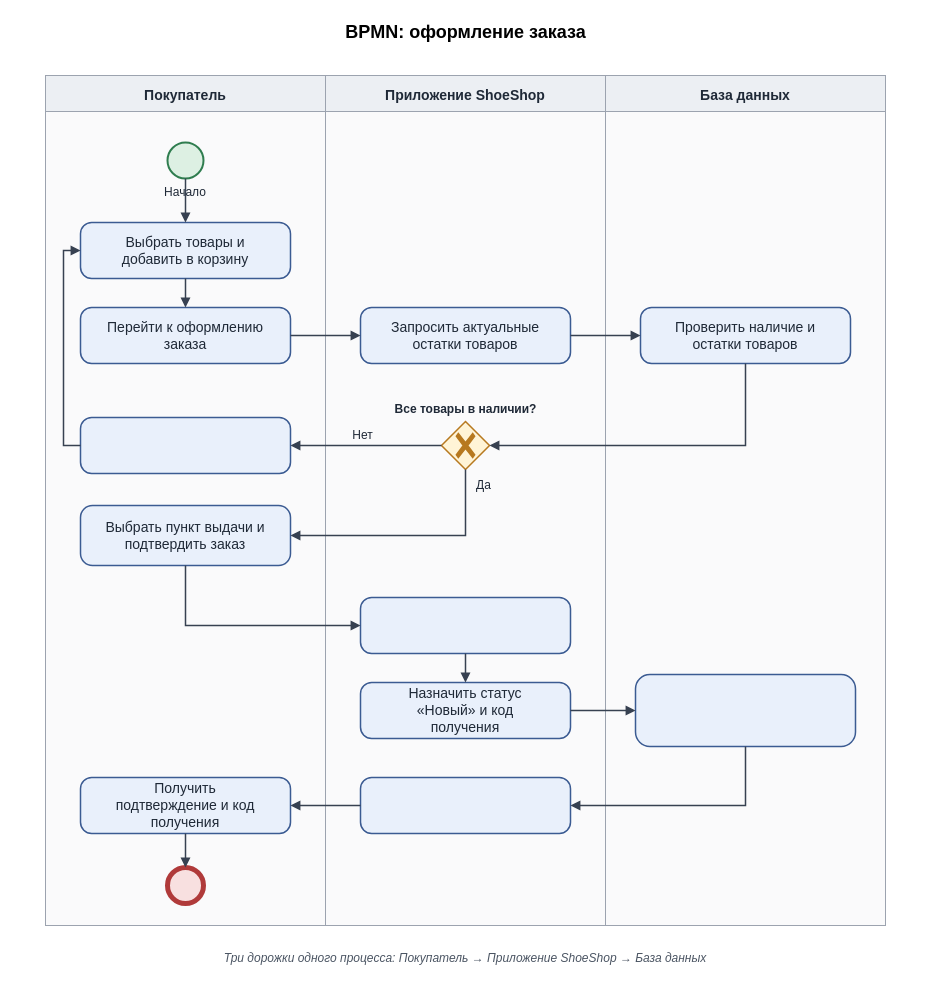
The diagram is 930 pixels wide and 985 high, and some of its shapes have lost their labels. Each missing label, with the centre of its shape:
"Изменить корзину" belongs at [185,445].
"Конец" belongs at [185,885].
"Показать подтверждение заказа" belongs at [465,805].
"Создать заказ и строки заказа" belongs at [465,625].
"Сохранить заказ, строки, ПВЗ и статус; уменьшить остатки" belongs at [745,710].
